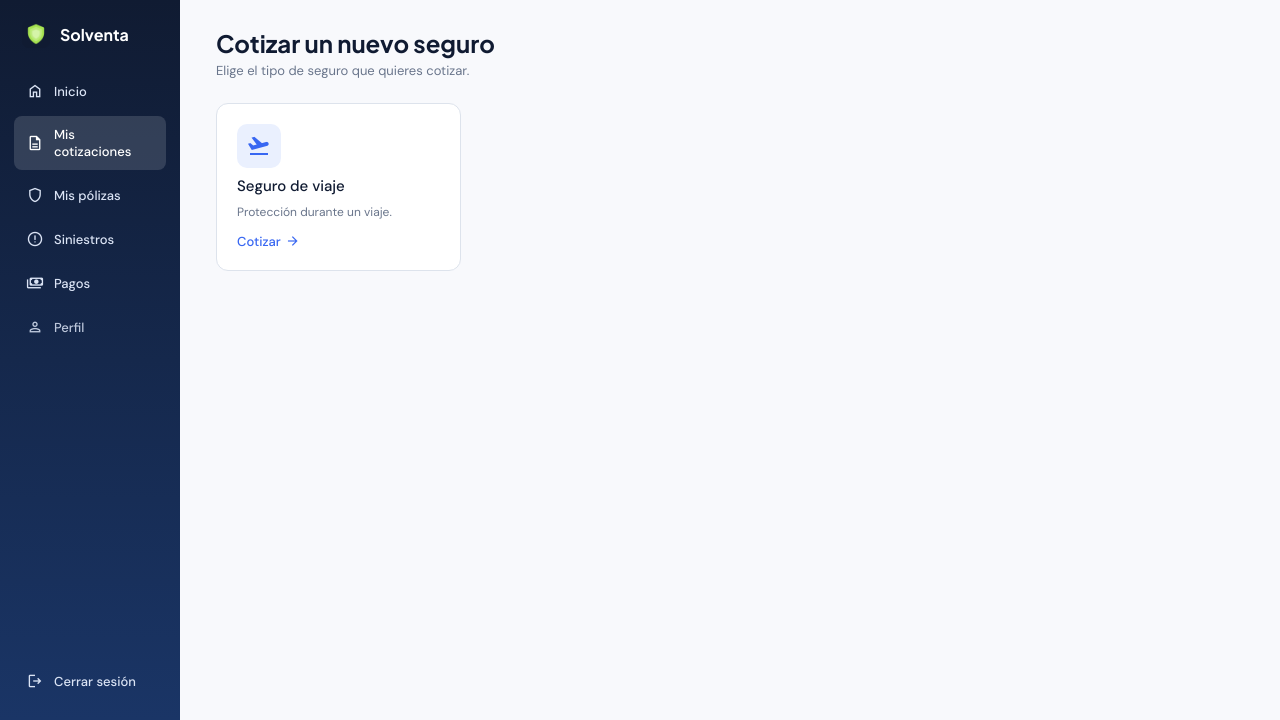
Test: crea la cotización y muestra el resumen con la prima
Click the button "Seguro de viaje Protección durante un viaje. Cotizar": (338, 187) [216, 103, 461, 271]
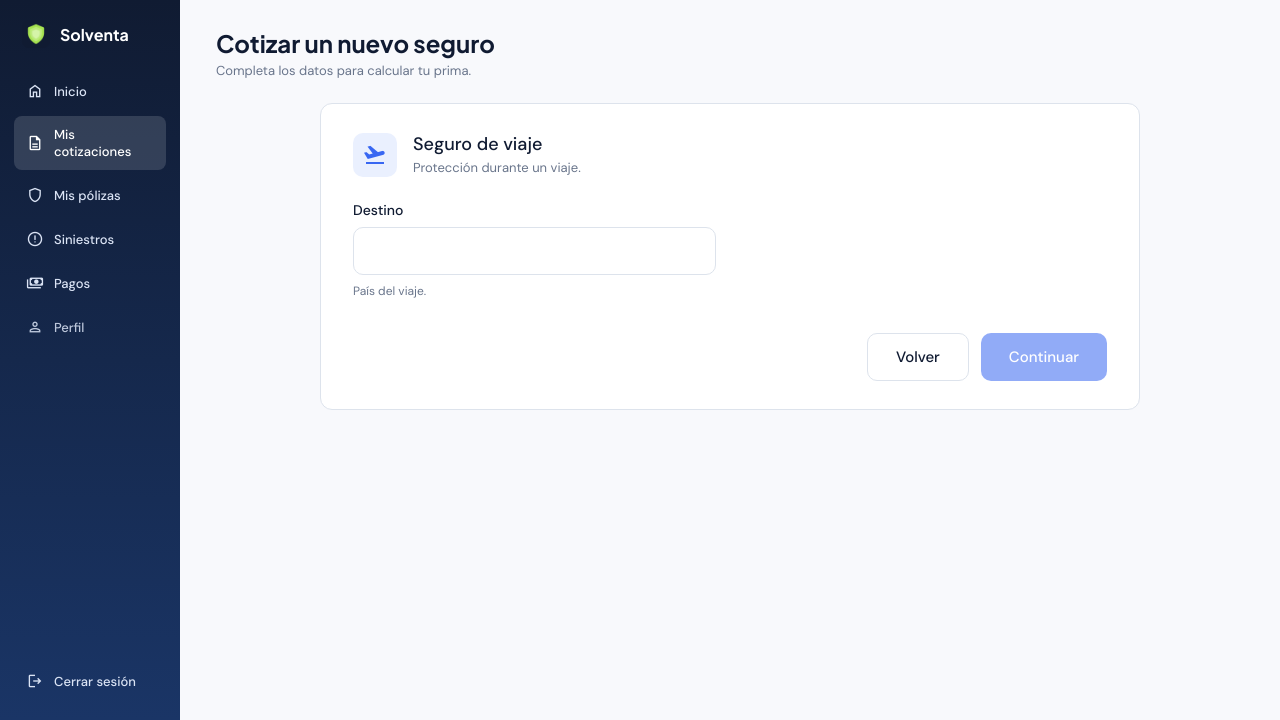
In the field labelled "Destino": (534, 251) [353, 227, 716, 275], type "Lima"
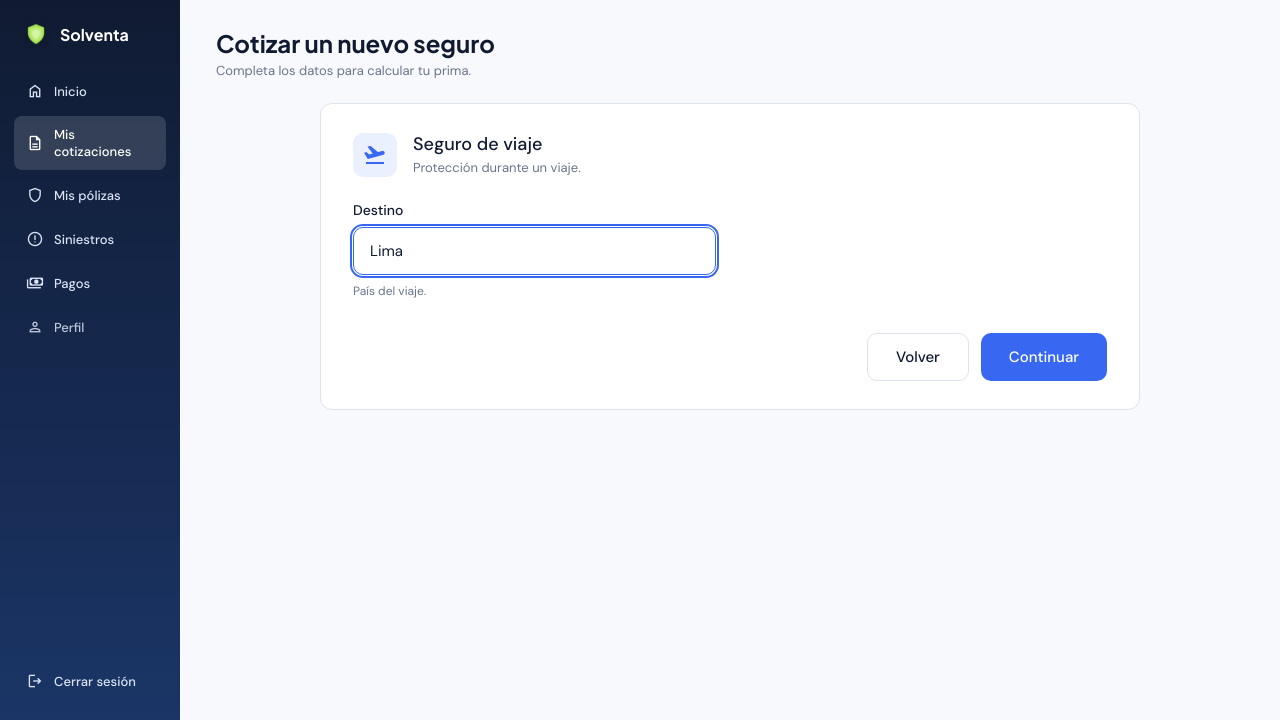
Click the button "Continuar": (1044, 357) [981, 333, 1107, 381]
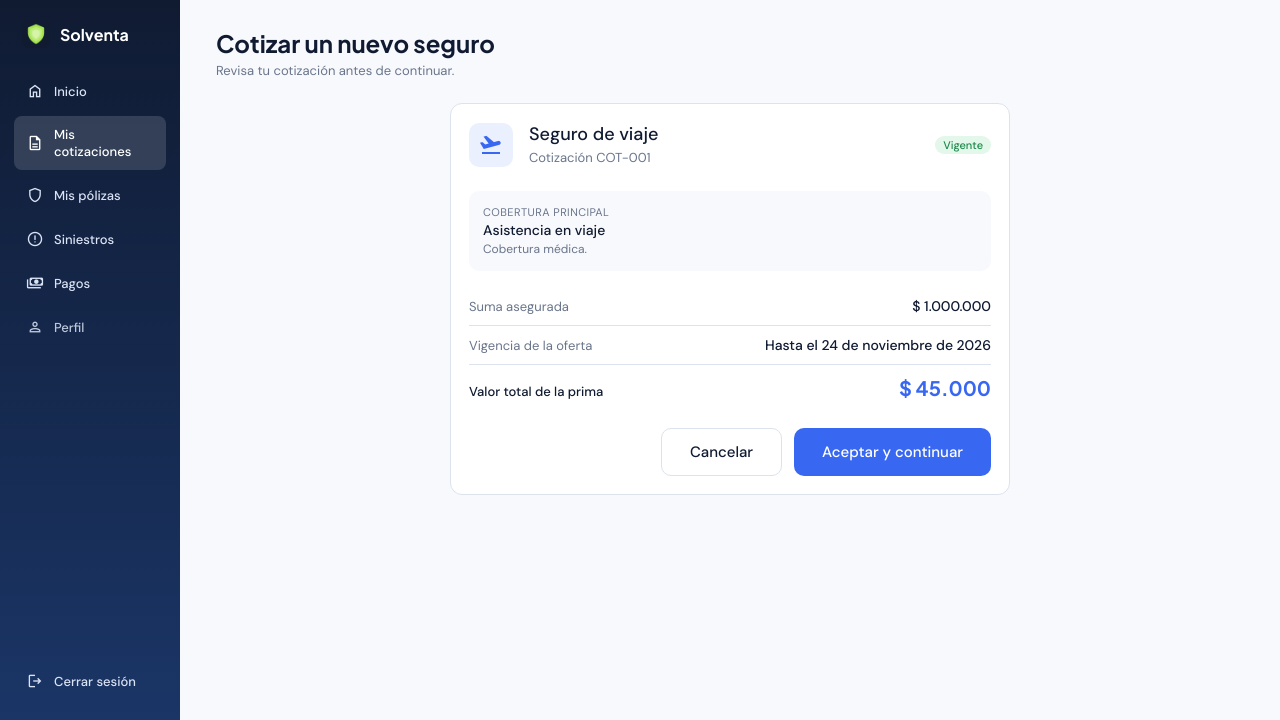
Expected: the text "Asistencia en viaje" is shown, [483, 221, 605, 239]
Expected: the text "$ 45.000" is shown, [899, 375, 991, 400]
Expected: the button "Aceptar y continuar" is shown, [794, 428, 991, 476]
